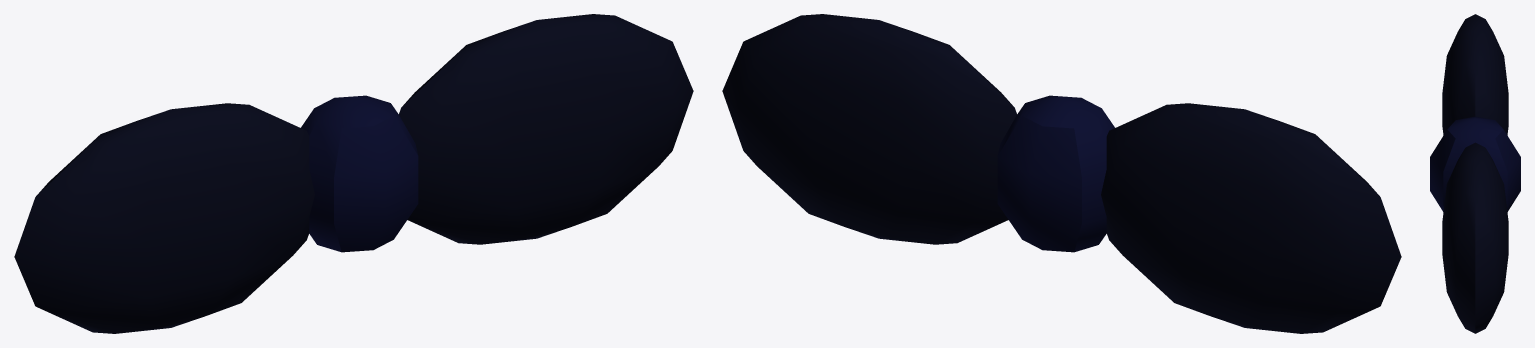
Rendered from mall-bowtie.glb.
3 views of the same model, side by side, from view 1: azimuth 30°, elevation 25°; view 2: azimuth 150°, elevation 25°; view 3: azimuth 270°, elevation 25° (orthographic). The views are drawn at different scales.
Parts seen in each view (by area): view 1: tie__fabric; view 2: tie__fabric; view 3: tie__fabric.
Boxes of the visible parts, x1=… form: tie__fabric: x1=14, y1=14, x2=693, y2=333; tie__fabric: x1=722, y1=14, x2=1401, y2=333; tie__fabric: x1=1430, y1=14, x2=1520, y2=333.
Size of the model in its own units: 0.13 by 0.04 by 0.0209.
